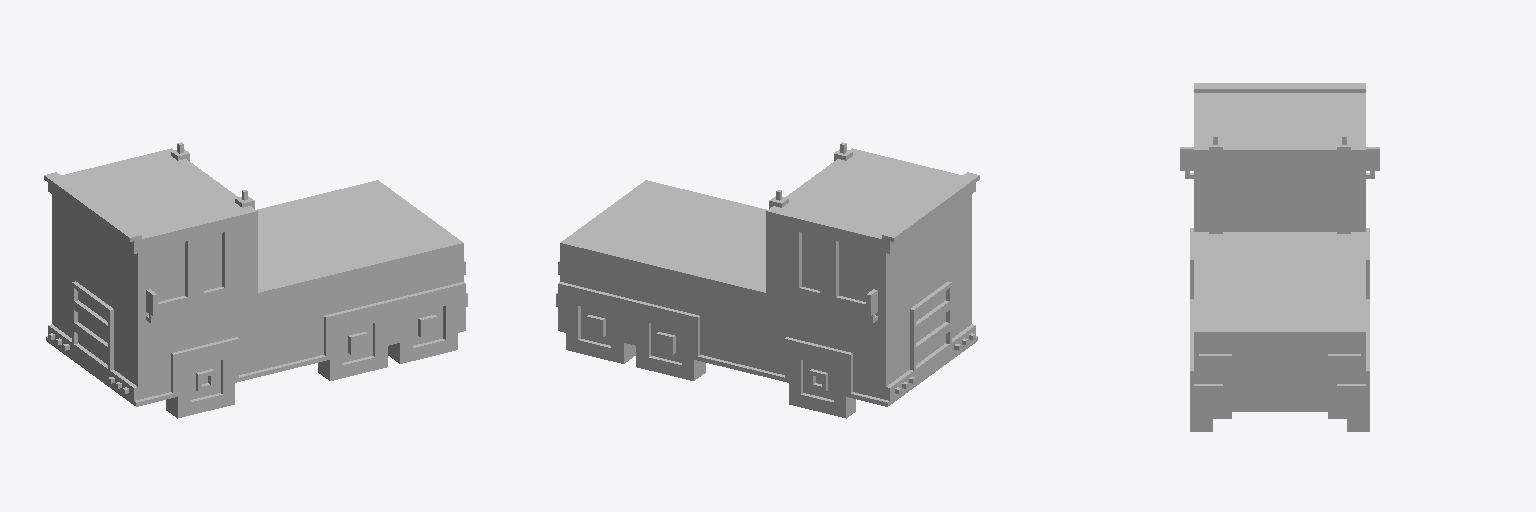
The model's file is alll cars3-146.obj.
3 renders of one model, left to right at view 1: azimuth 30°, elevation 25°; view 2: azimuth 150°, elevation 25°; view 3: azimuth 270°, elevation 25°, orthographic.
Parts seen in each view (by area): view 1: object 1; view 2: object 1; view 3: object 1.
Boxes of the visible parts, x1=… form: object 1: x1=44, y1=142, x2=467, y2=418; object 1: x1=556, y1=142, x2=979, y2=418; object 1: x1=1180, y1=83, x2=1379, y2=431.
Bounding box in the file's own units: 8.2 × 4.6 × 4.2.